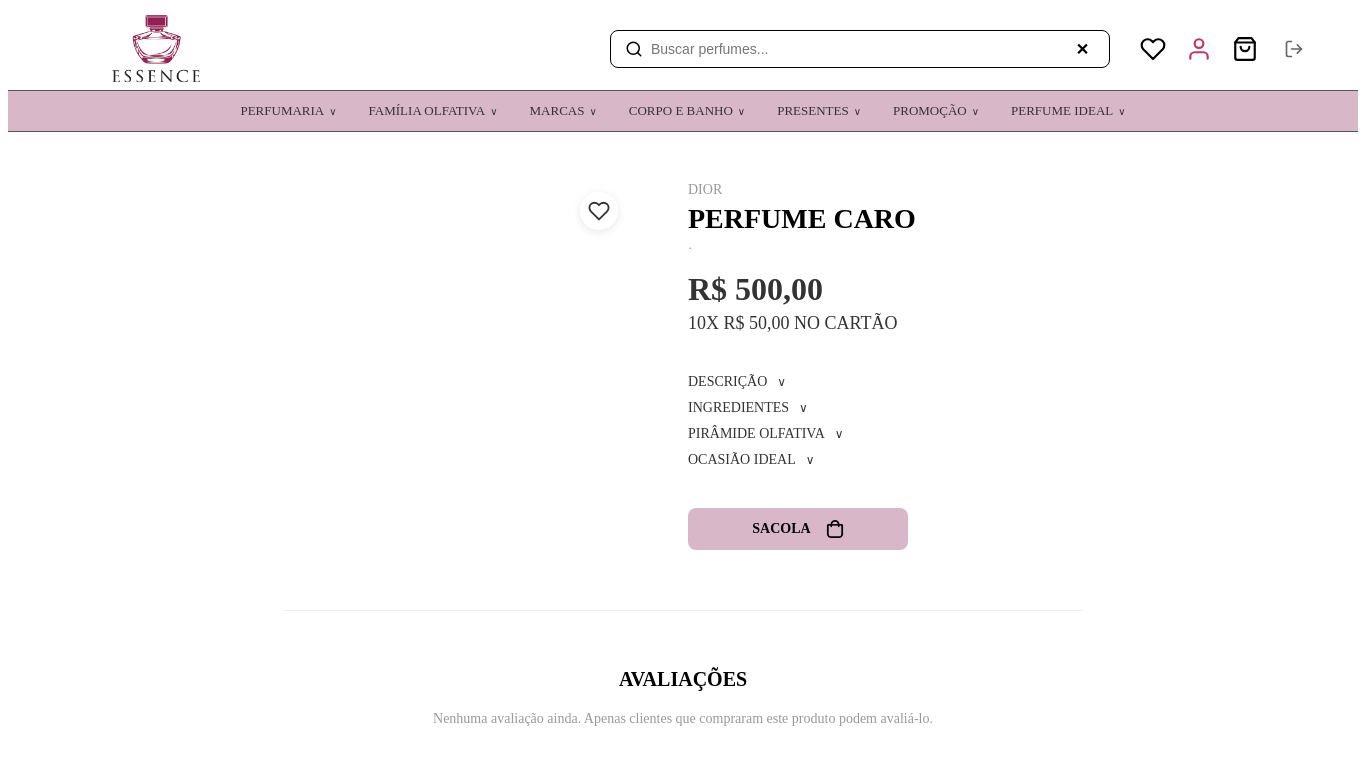
Test: Fluxo de Checkout e Sacola › 10 e 11. Deve interagir com o carrinho, atualizando Badge e Subtotal
# Clica para adicionar usando a classe do botão no Product.jsx
Click the button with class "sacola-button": [798, 529] box [688, 508, 908, 550]
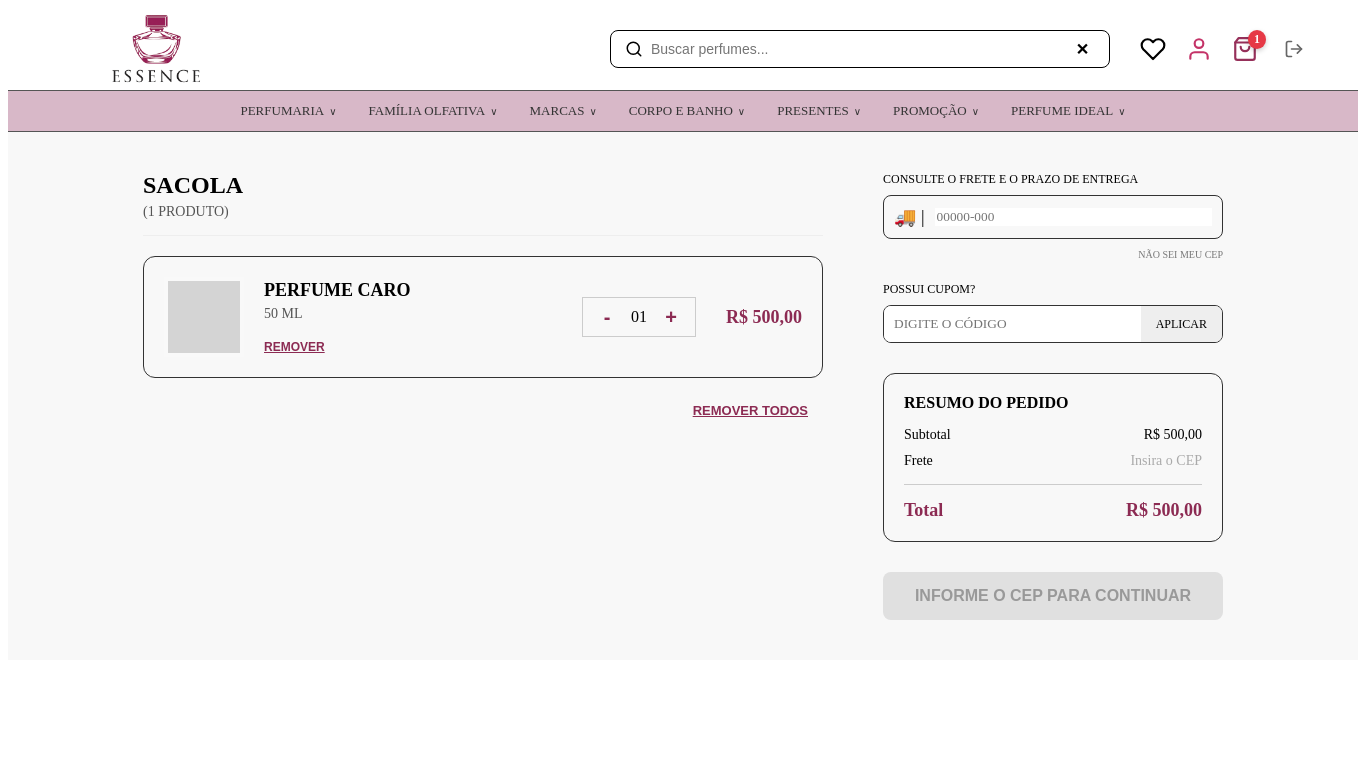
Check: the link "Perfume Caro" is shown, box [264, 280, 410, 300]
Check: the text "1" is shown, box [1248, 30, 1266, 49]
# Clica no botão de '+' da quantidade
Click the button "+": [671, 317] box [657, 303, 685, 331]
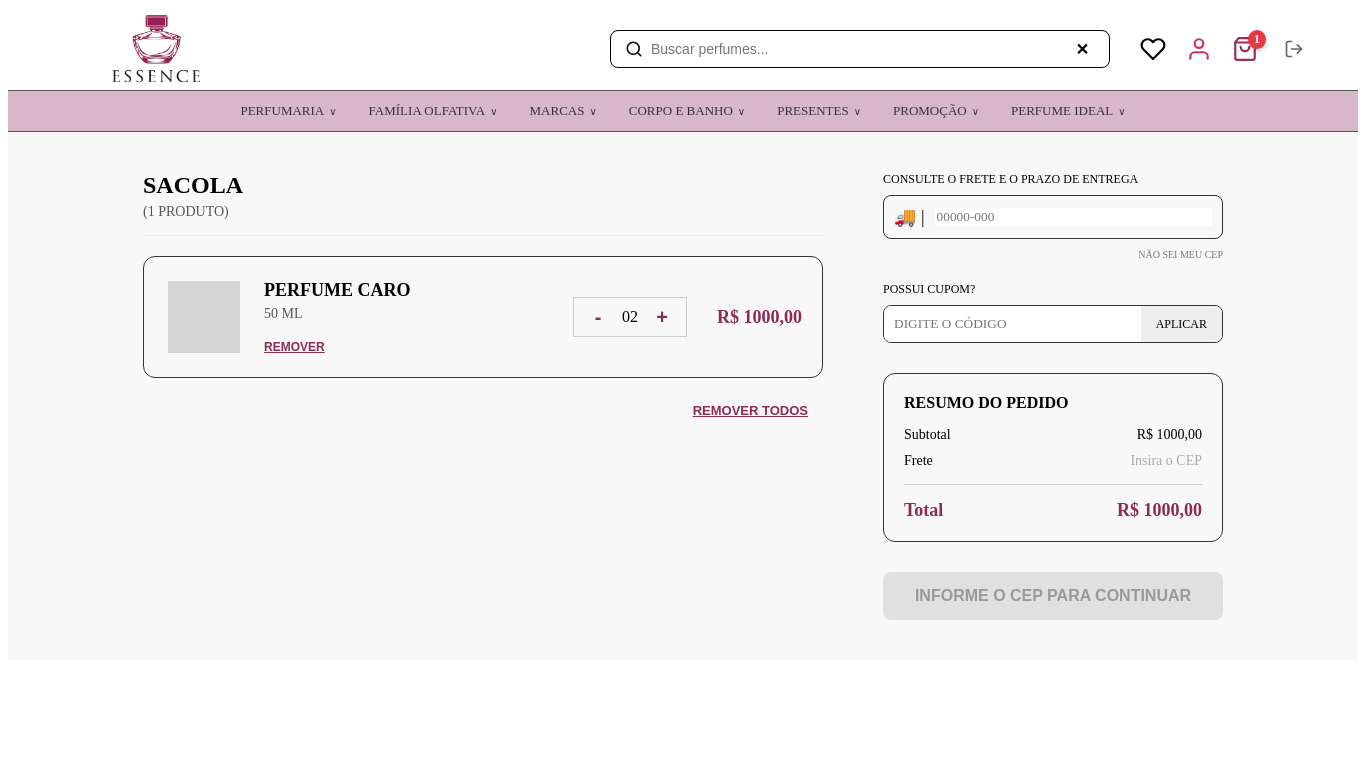
Check: the text "1000,00" next to "02" is shown, box [744, 307, 803, 327]
